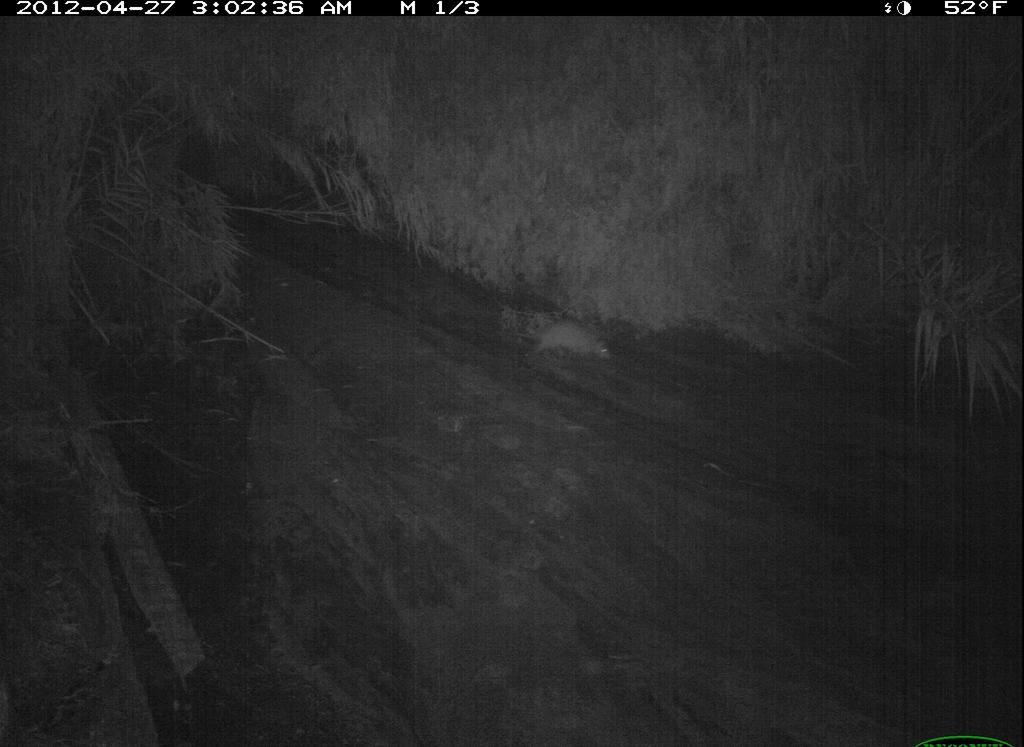opossum: (1021, 633, 1024, 731)
